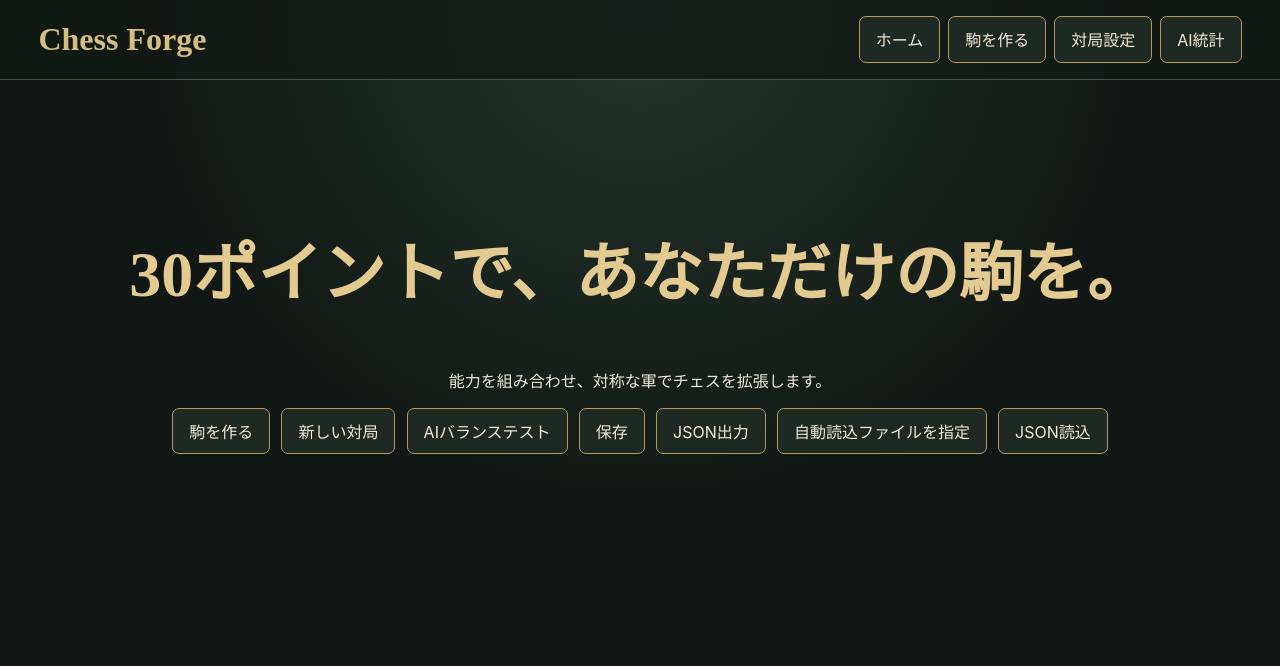
Test case: App › configures advance with shared runup, jump and width settings
The width and height of the screenshot is (1280, 666).
Step 1. Click the button "駒を作る" in the row of "Chess Forge" → (997, 39), box top-left (948, 16), bottom-right (1046, 63)
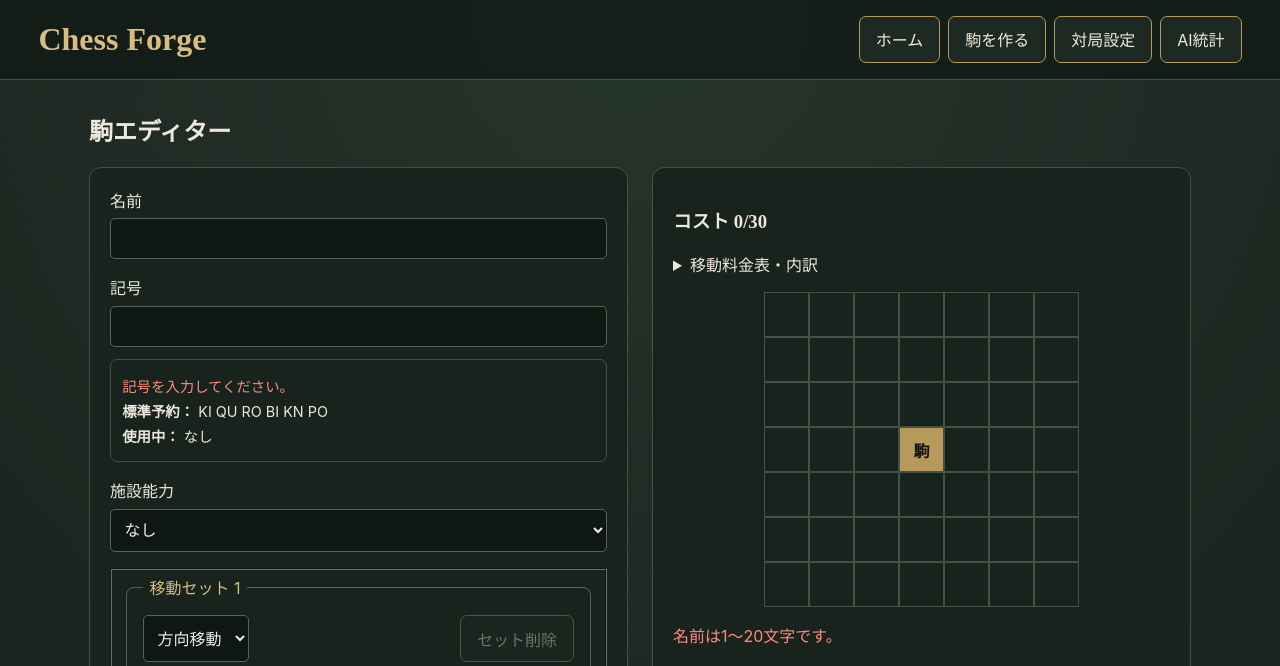
Step 2. Select "躍進" in the dropdown named "移動セット1の種類" → (196, 639), box top-left (143, 615), bottom-right (249, 662)
(page scrolled)
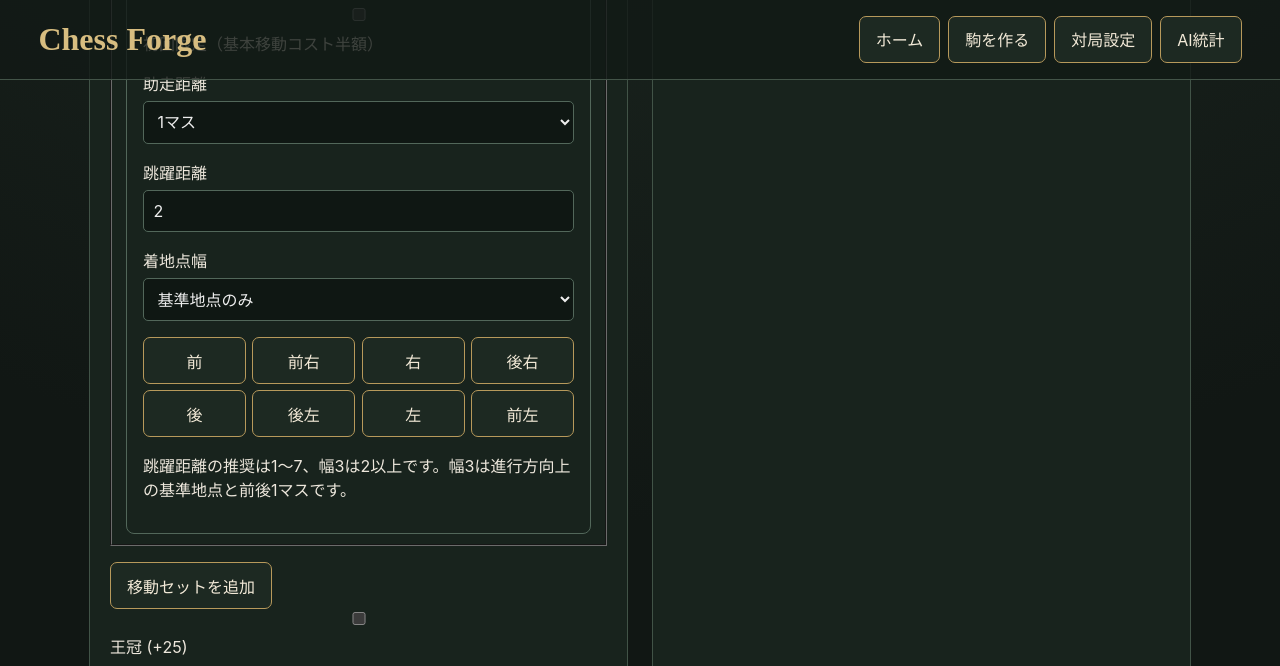
Step 3. Click the button "前" → (194, 361), box top-left (143, 337), bottom-right (246, 384)
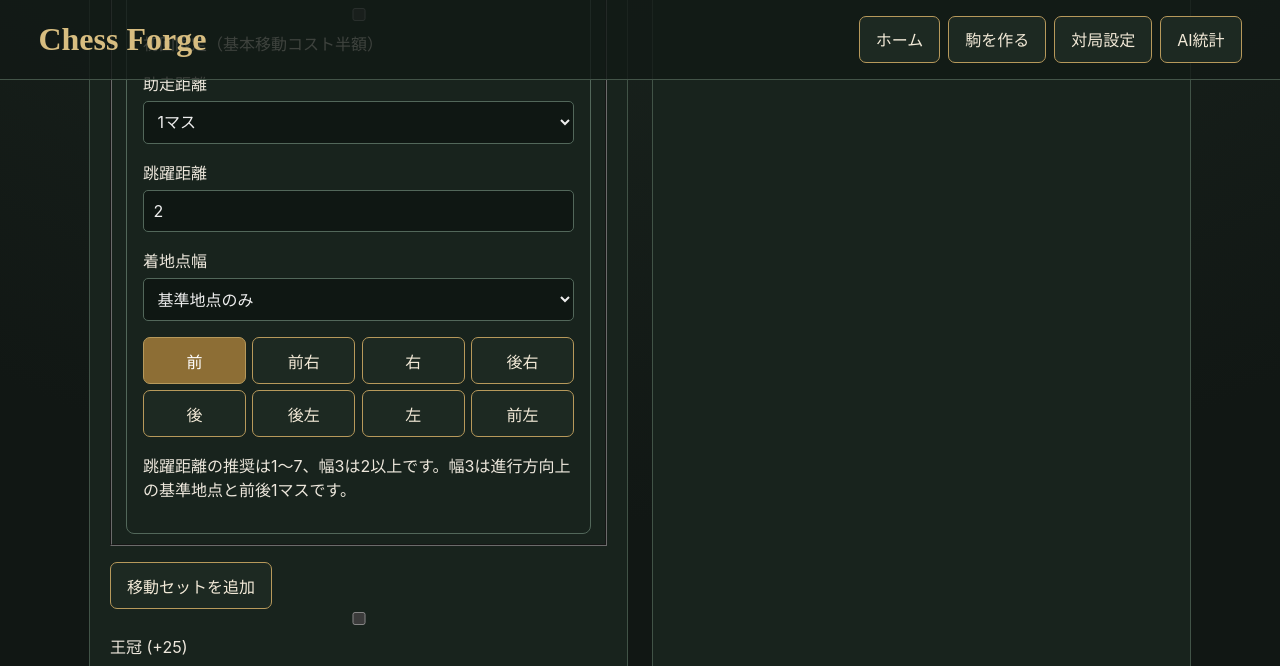
Step 4. Select "1マス" in the dropdown named "移動セット1の助走距離" → (358, 122), box top-left (143, 101), bottom-right (574, 144)
Step 5. Replace the text in the number field named "移動セット1の跳躍距離" with "4" → (358, 211), box top-left (143, 190), bottom-right (574, 232)
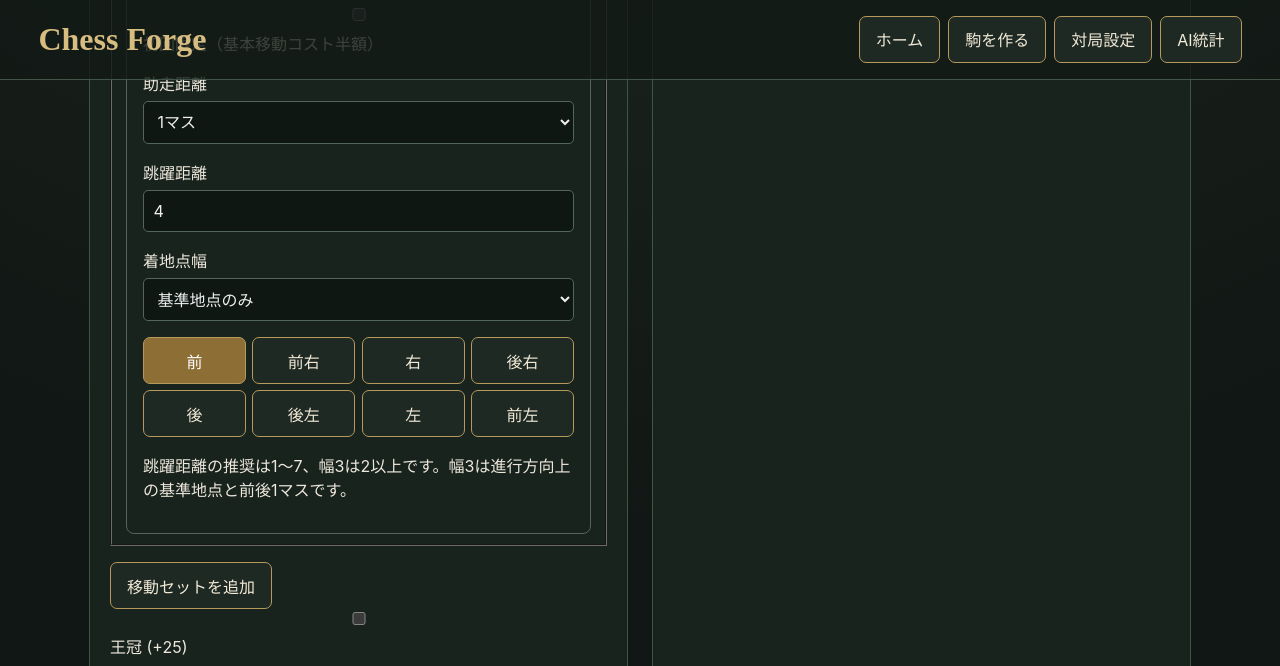
Step 6. Select "基準地点と前後1マス" in the dropdown named "移動セット1の着地点幅" → (358, 300), box top-left (143, 278), bottom-right (574, 321)
(page scrolled)
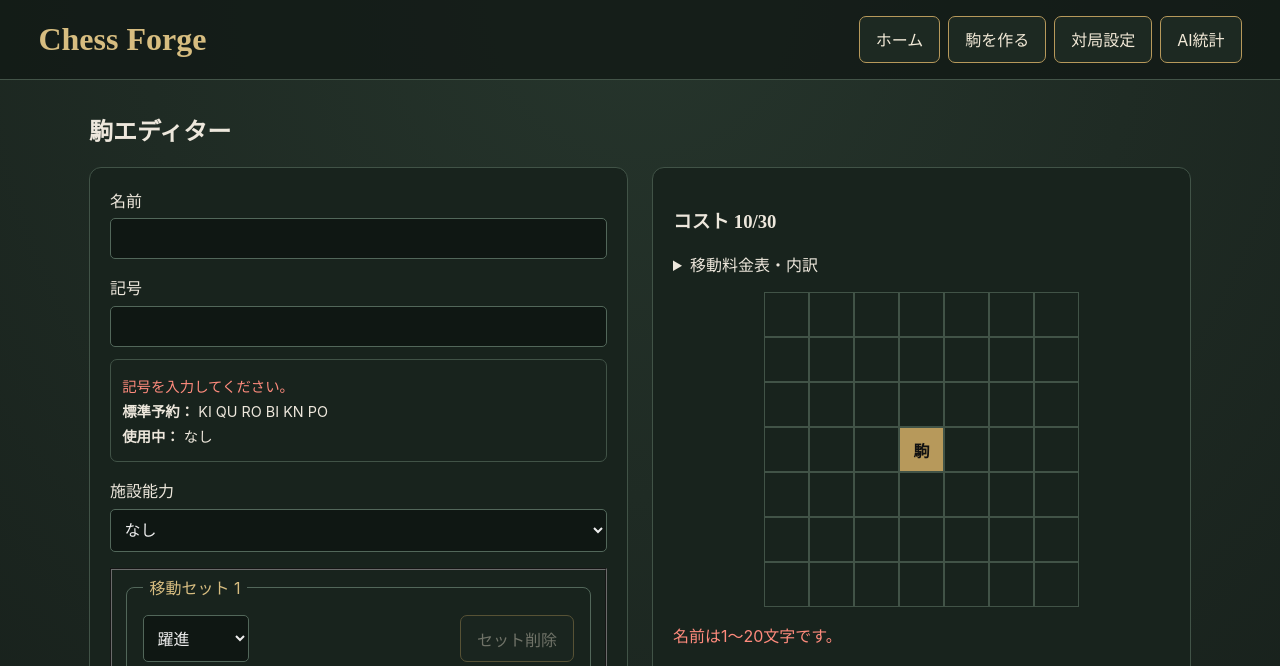
Check: the heading "コスト 10/30" is shown, box top-left (673, 211), bottom-right (776, 232)
